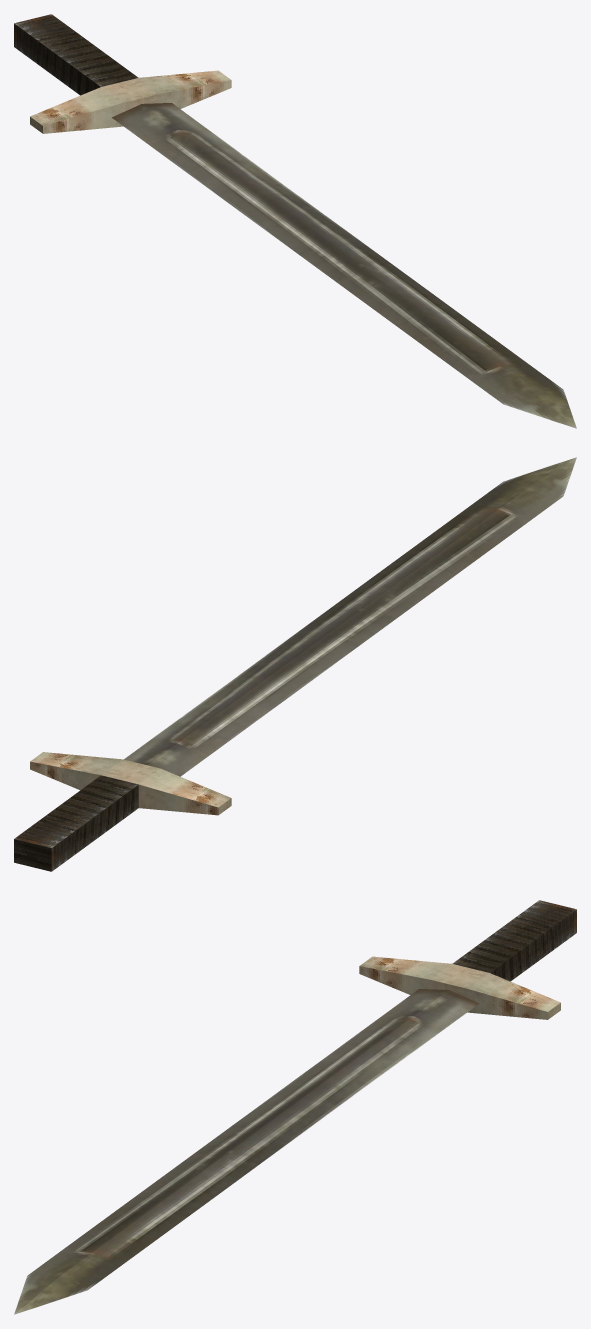
File: ps1-sword-b.glb
The picture shows the model from 3 angles, top to bottom: view 1: azimuth 30°, elevation 25°; view 2: azimuth 150°, elevation 25°; view 3: azimuth 330°, elevation 25°; orthographic projection.
Parts seen in each view (by area): view 1: sword_normal_b; view 2: sword_normal_b; view 3: sword_normal_b.
Part boxes in pixels (x1,y1,x2,y2): sword_normal_b: (14,14,576,428); sword_normal_b: (14,457,576,871); sword_normal_b: (14,900,576,1314).
Size of the model in its own units: 25 by 3 by 125.
Materials: 3 (3 with a texture image).
